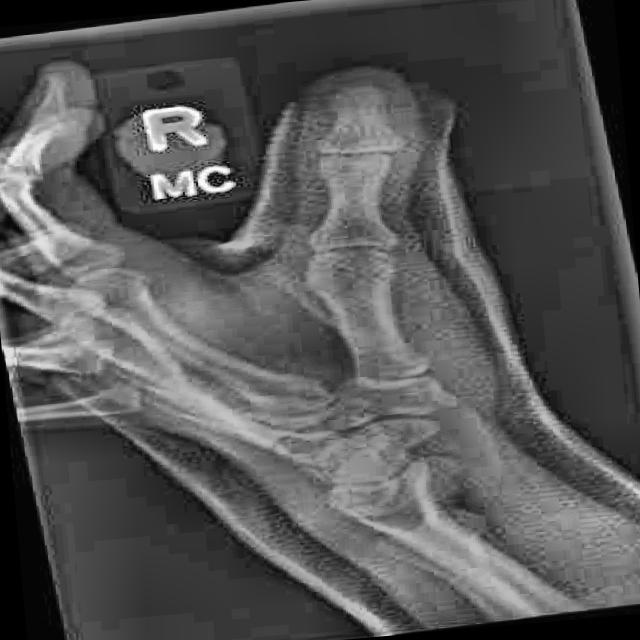fingers positive: (289, 228, 436, 310)
